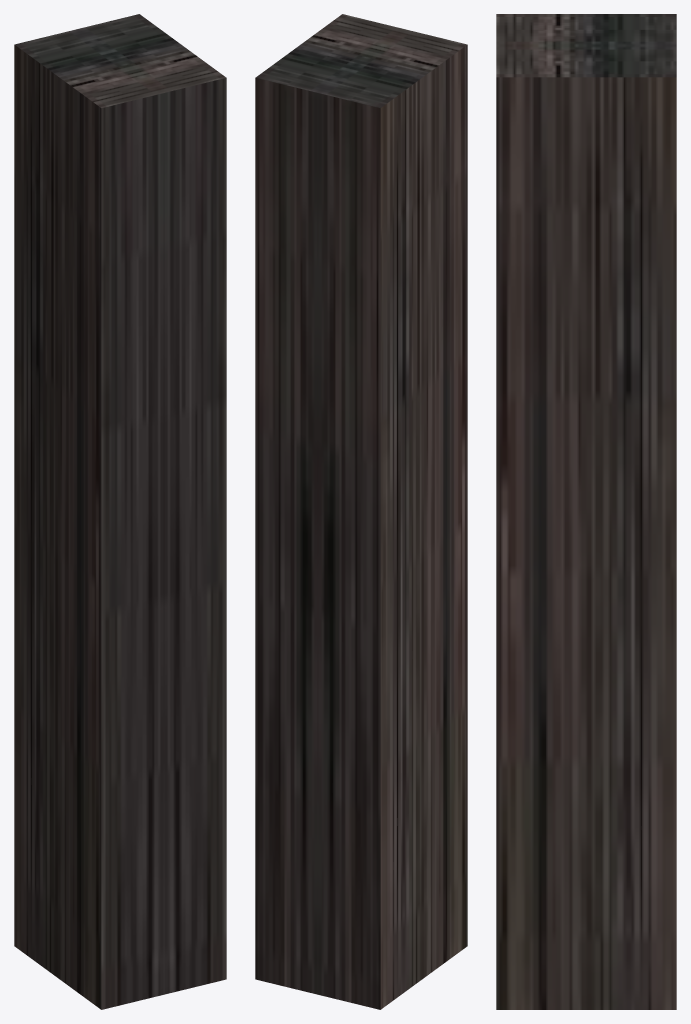
The model's file is FencePost.fbx.
3 renders of one model, left to right at view 1: azimuth 30°, elevation 25°; view 2: azimuth 150°, elevation 25°; view 3: azimuth 270°, elevation 25°, orthographic. The views are drawn at different scales.
Parts seen in each view (by area): view 1: Cube; view 2: Cube; view 3: Cube.
Part boxes in pixels (<box>): Cube: <box>14,14,226,1009</box>; Cube: <box>255,14,467,1009</box>; Cube: <box>496,14,676,1009</box>.
Size of the model in its own units: 92.75 by 639 by 112.
Materials: 1 (1 with a texture image).
